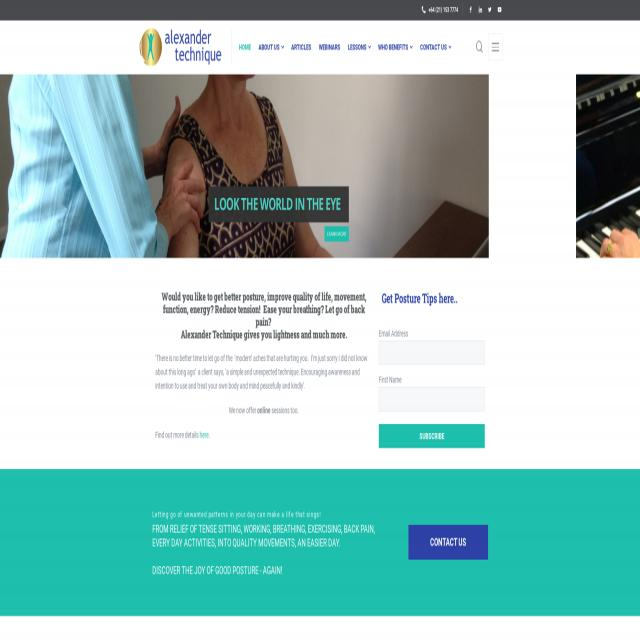button: (0, 74, 489, 258), (575, 74, 640, 258), (137, 28, 224, 66), (408, 525, 488, 559), (379, 424, 485, 448), (374, 28, 416, 66), (416, 28, 452, 66), (255, 28, 288, 66), (344, 28, 374, 66), (316, 28, 344, 66), (288, 28, 315, 66), (235, 29, 254, 67), (324, 225, 350, 241), (488, 34, 503, 61), (474, 34, 484, 61), (476, 4, 484, 16), (486, 4, 494, 16), (467, 4, 474, 16), (496, 4, 502, 16)
field: (379, 387, 485, 411), (379, 341, 485, 364)
